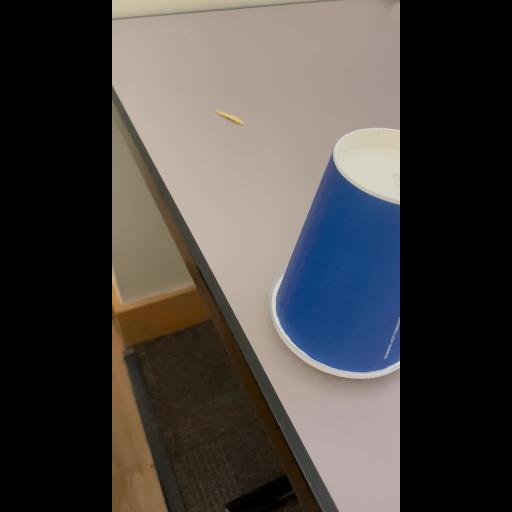lp_paper_cup: (270, 110, 400, 390)
